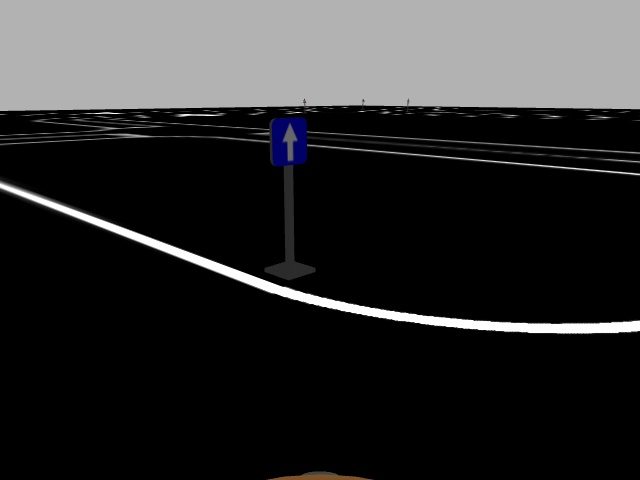oneway: (268, 116, 309, 168)
